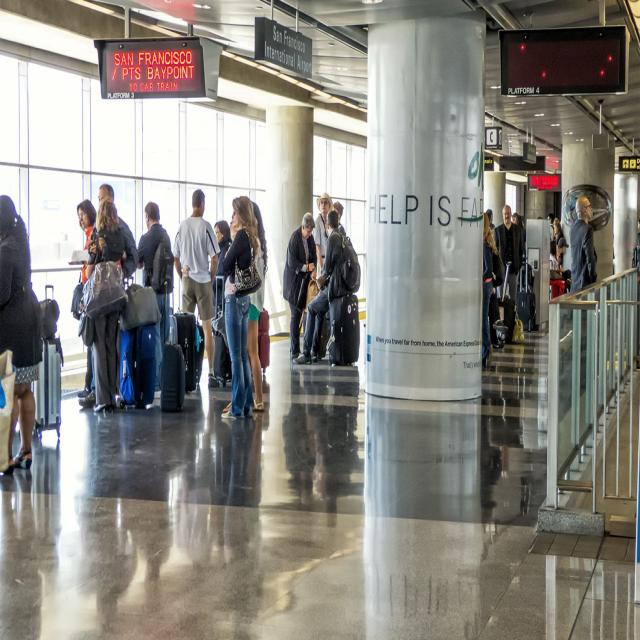body: (74, 410, 140, 636), (67, 196, 128, 416), (284, 364, 361, 534), (0, 190, 44, 483), (172, 391, 230, 581), (292, 210, 361, 367), (172, 187, 222, 390), (229, 417, 267, 638), (220, 195, 257, 421), (135, 200, 174, 400), (481, 338, 518, 540), (0, 477, 44, 639), (70, 198, 98, 398), (282, 212, 318, 363), (138, 448, 172, 592), (92, 182, 139, 282), (246, 200, 268, 412), (481, 212, 505, 368), (493, 203, 525, 306), (312, 191, 334, 337), (569, 195, 598, 295), (518, 332, 538, 448), (212, 220, 234, 306), (488, 292, 508, 352), (514, 214, 527, 289), (631, 229, 640, 337), (554, 236, 570, 273), (332, 202, 348, 238), (553, 222, 564, 270), (485, 208, 498, 248), (549, 240, 564, 273), (546, 212, 556, 258), (226, 211, 239, 241), (636, 218, 640, 266), (612, 231, 615, 270), (512, 210, 518, 224), (553, 217, 560, 228), (520, 216, 526, 227), (536, 214, 544, 220)
